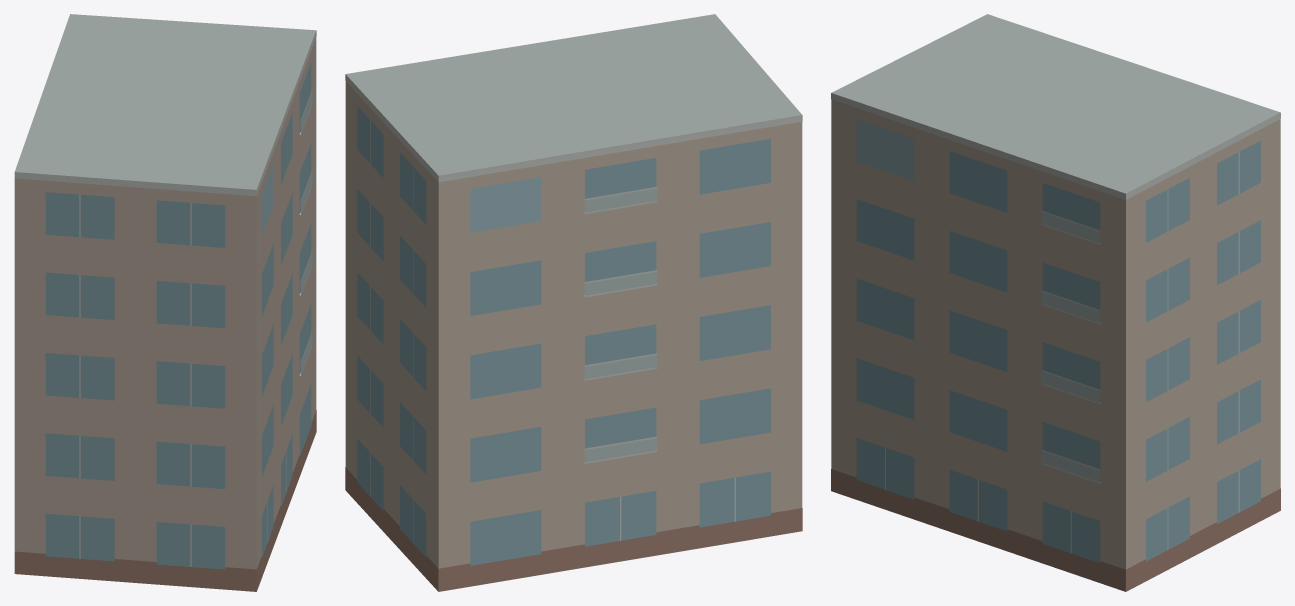
Rendered from survey-upis-33016659.glb.
3 renders of one model, left to right at view 1: azimuth 30°, elevation 25°; view 2: azimuth 150°, elevation 25°; view 3: azimuth 270°, elevation 25°, orthographic. The views are drawn at different scales.
Parts seen in each view (by area): view 1: survey-upis-33016659.tmp; view 2: survey-upis-33016659.tmp; view 3: survey-upis-33016659.tmp.
Part boxes in pixels (x1,y1,x2,y2): survey-upis-33016659.tmp: [14, 14, 316, 591]; survey-upis-33016659.tmp: [345, 14, 802, 591]; survey-upis-33016659.tmp: [831, 14, 1280, 591].
Bounding box in the file's own units: 14.71 × 15.2 × 15.56.
